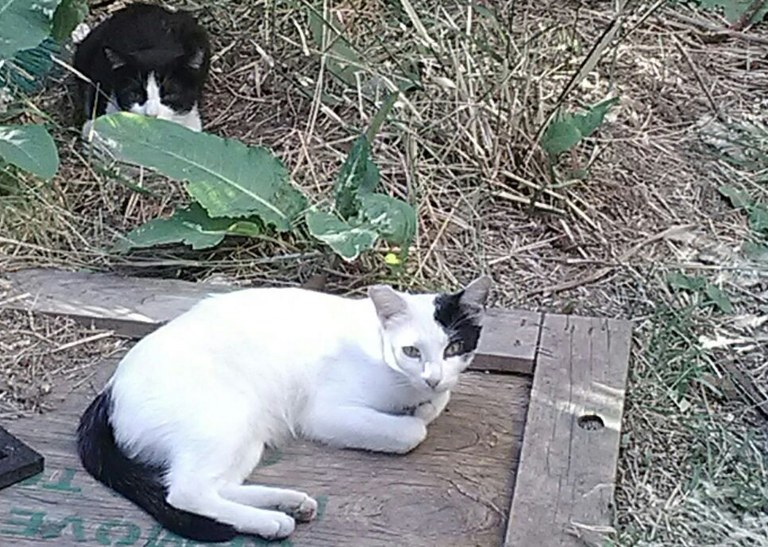cat: (9, 269, 513, 542)
